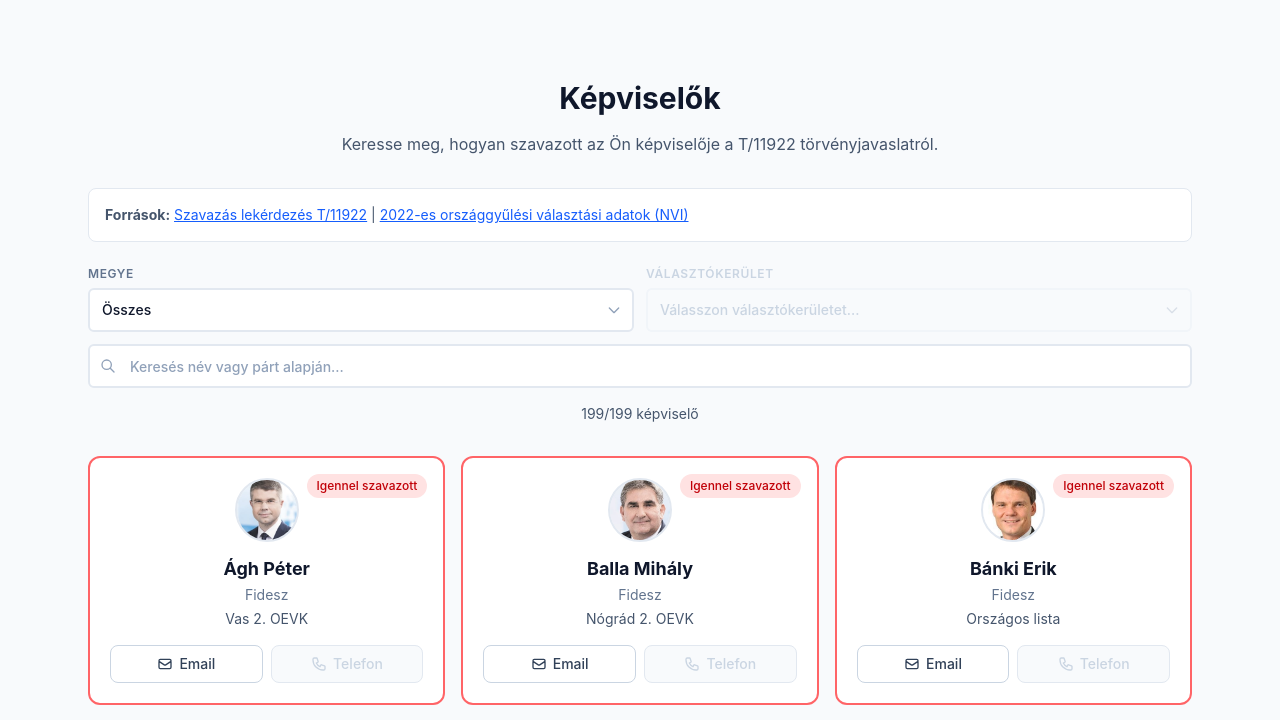
it: historical MP filters combine county, district and name, and clear dependent district state
Step 1. Select "Budapest" in the dropdown labelled "Megye" → [361, 310], box [88, 288, 634, 332]
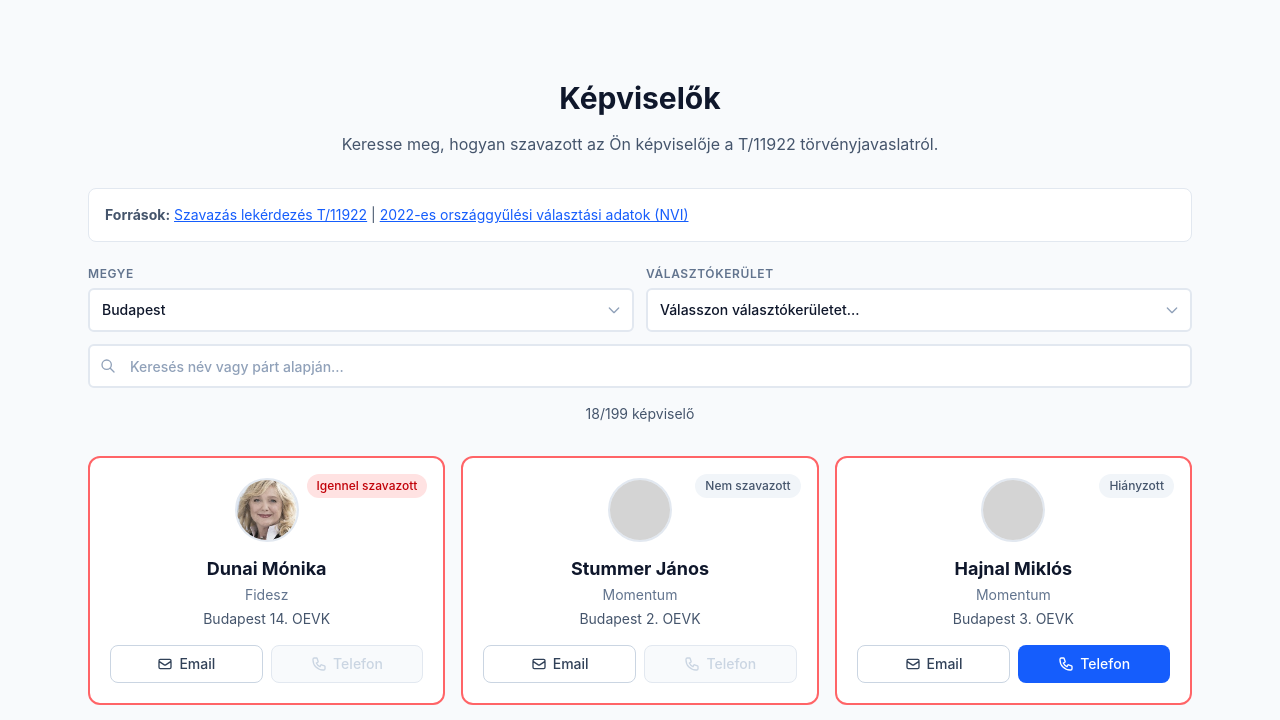
Step 2. Select "1. OEVK" in the dropdown labelled "Választókerület" → [919, 310], box [646, 288, 1192, 332]
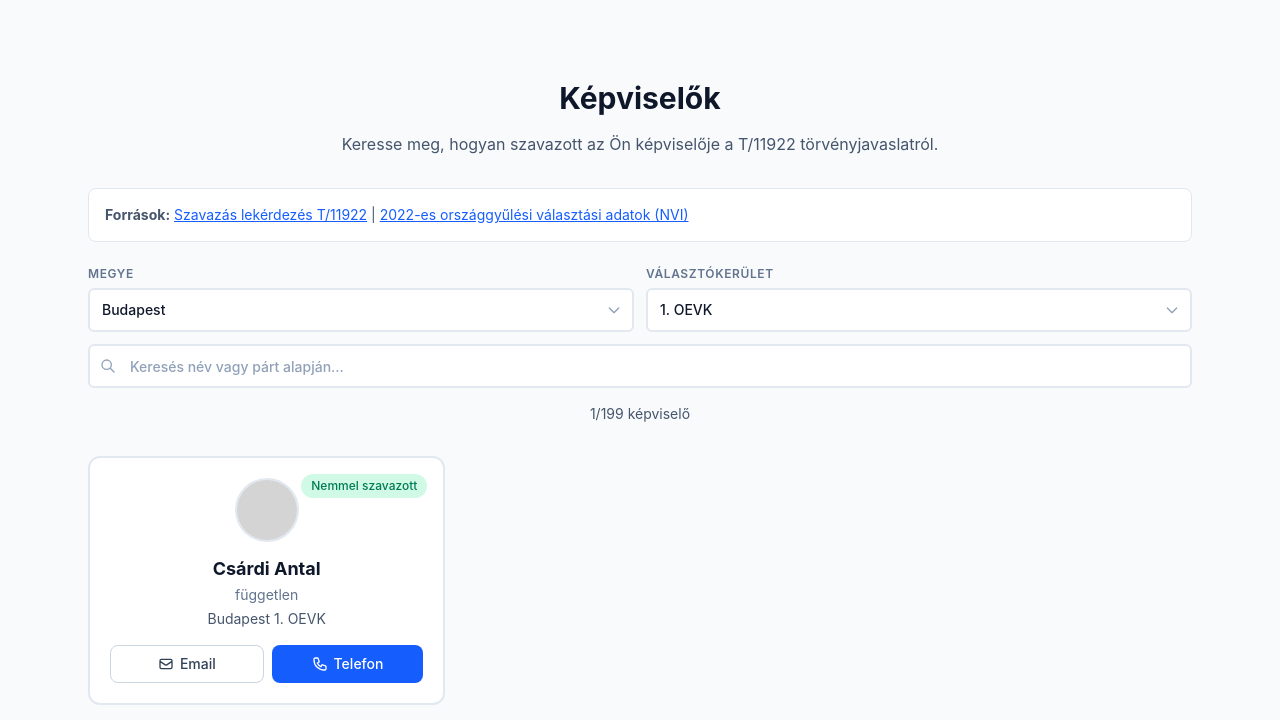
Check: the heading "Csárdi Antal" is shown, box [213, 558, 321, 579]
Step 3. Type "nincs ilyen képviselő" into the field with placeholder "Keresés név vagy párt alapján..." → [640, 366], box [88, 344, 1192, 388]
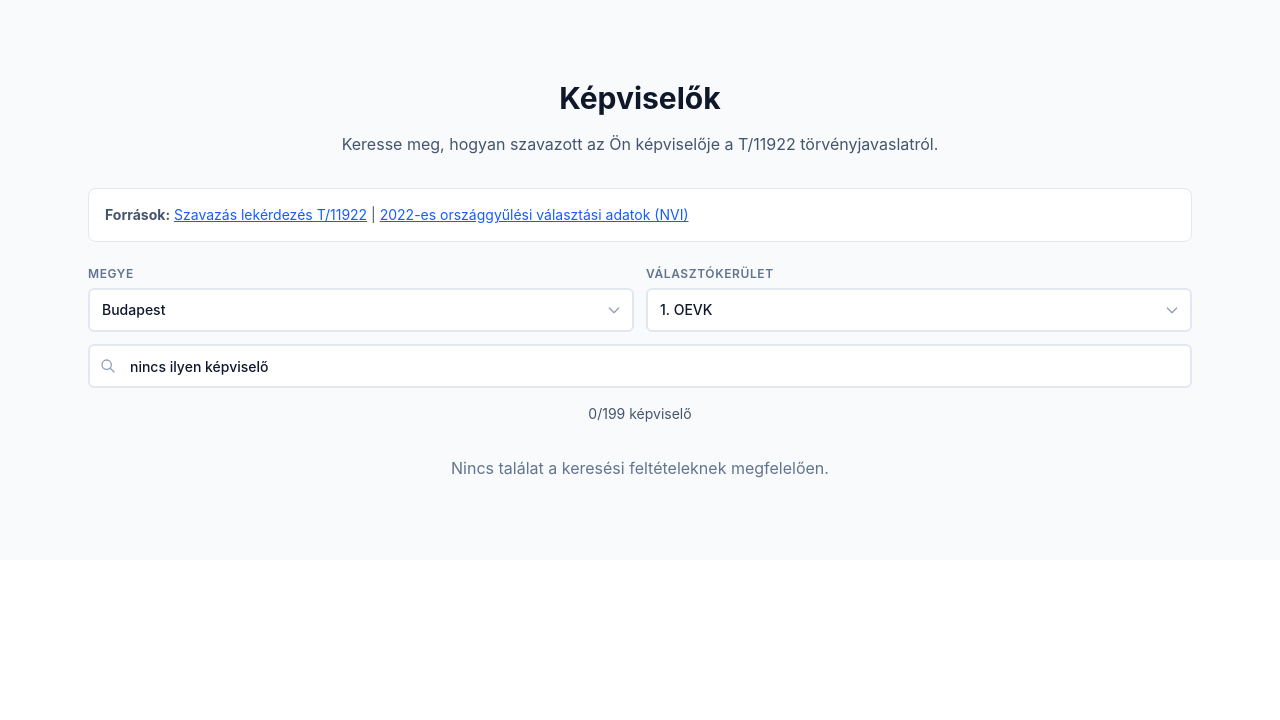
Check: the text "Nincs találat a keresési feltételeknek megfelelően." is shown, box [451, 458, 829, 478]
Step 4. Clear the field → [640, 366], box [88, 344, 1192, 388]
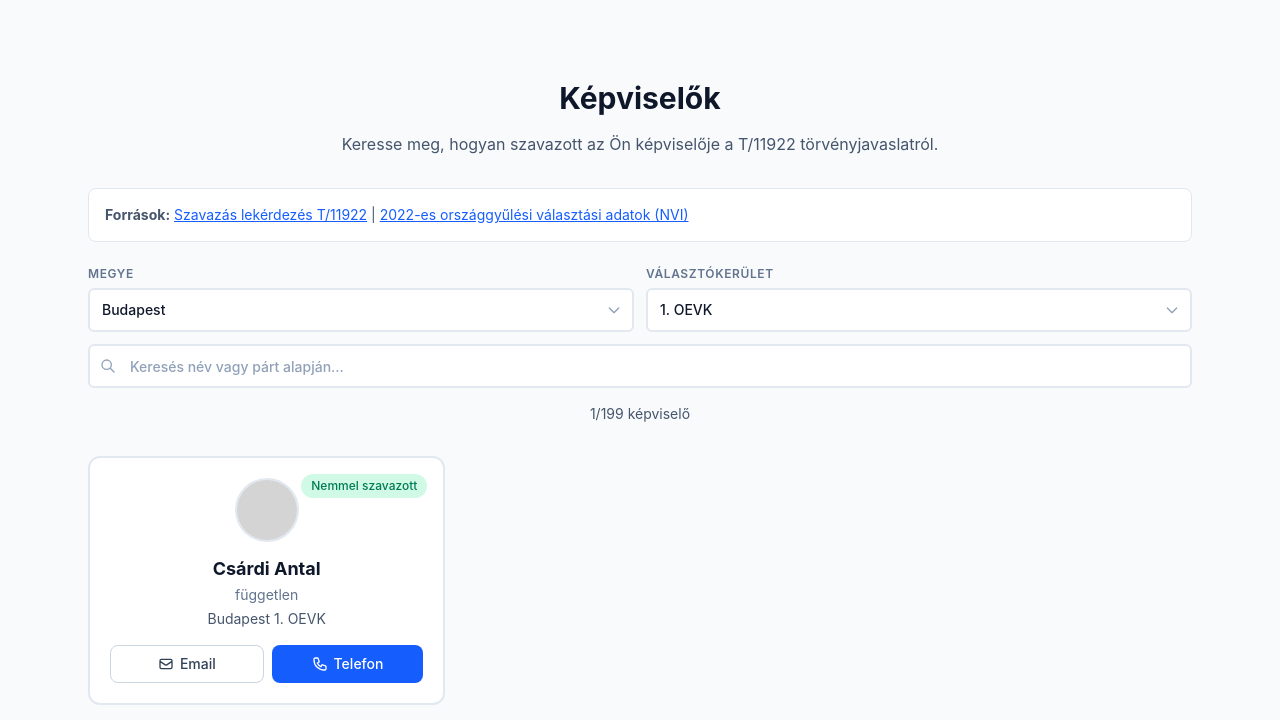
Step 5. Select "Összes" in the dropdown labelled "Megye" → [361, 310], box [88, 288, 634, 332]
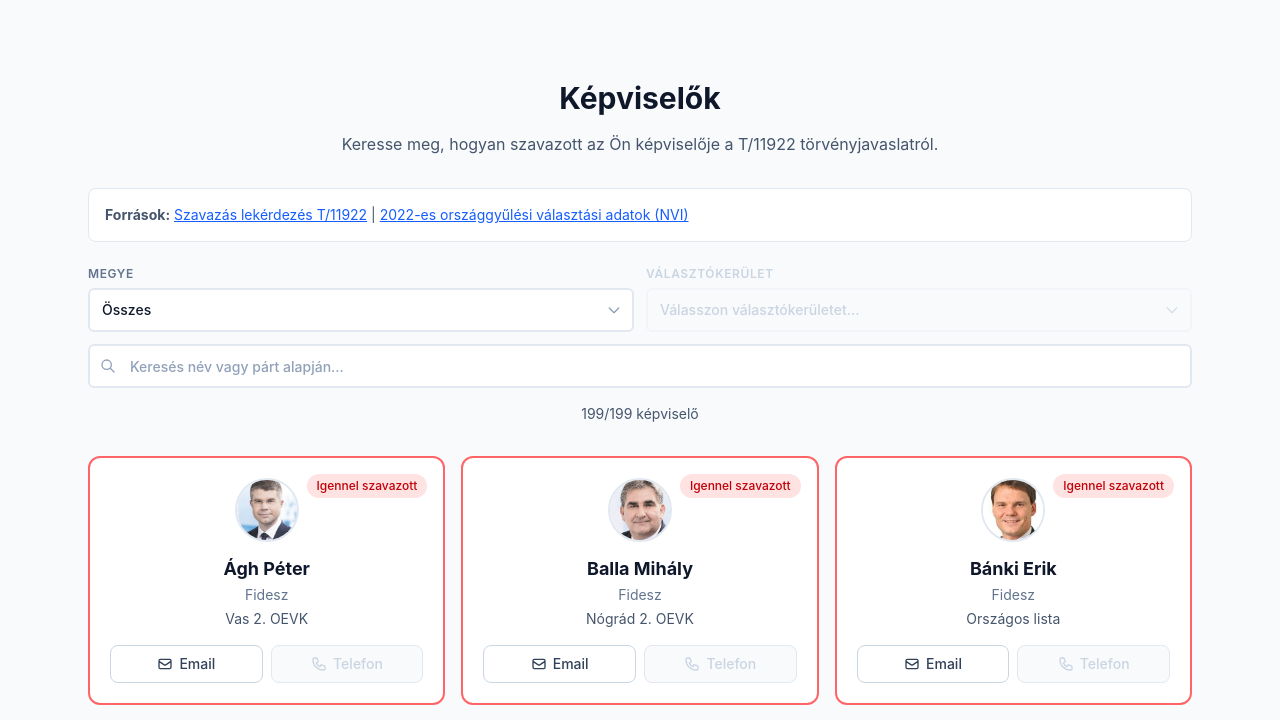
Step 6. Select "Válasszon megyét..." in the dropdown labelled "Megye" → [361, 310], box [88, 288, 634, 332]
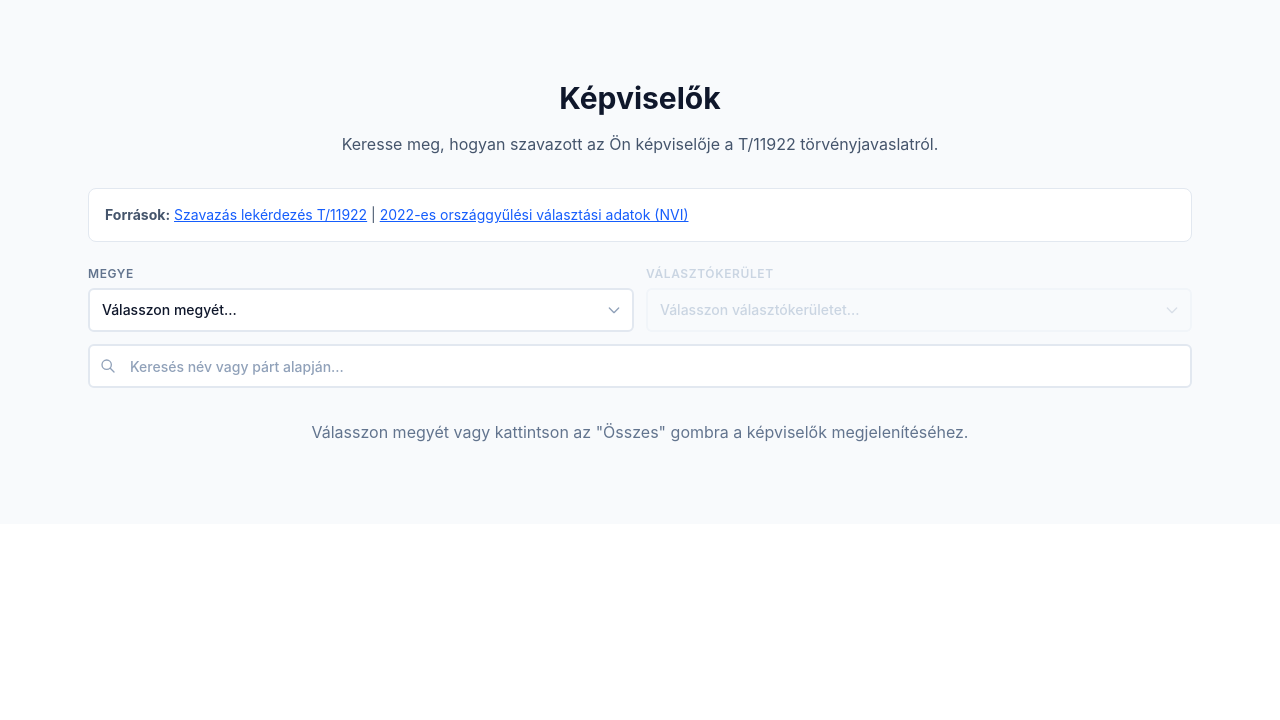
Check: the text "Válasszon megyét vagy kattintson az \"Összes\" gombra a képviselők megjelenítéséhez." is shown, box [312, 422, 968, 442]
